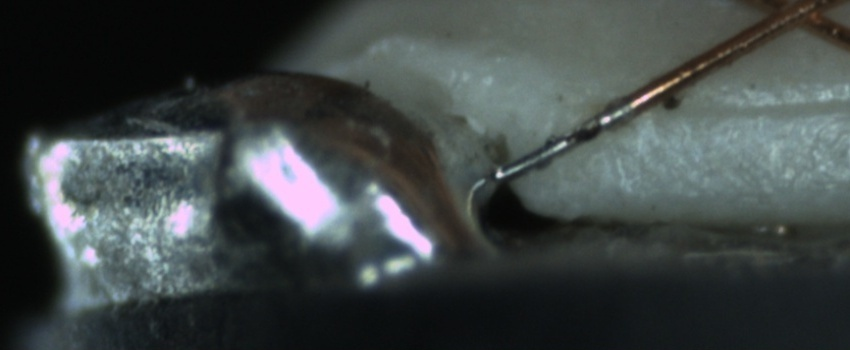CL: (739, 1, 847, 41)
DL: (634, 74, 845, 146)
TS: (493, 102, 633, 180)
